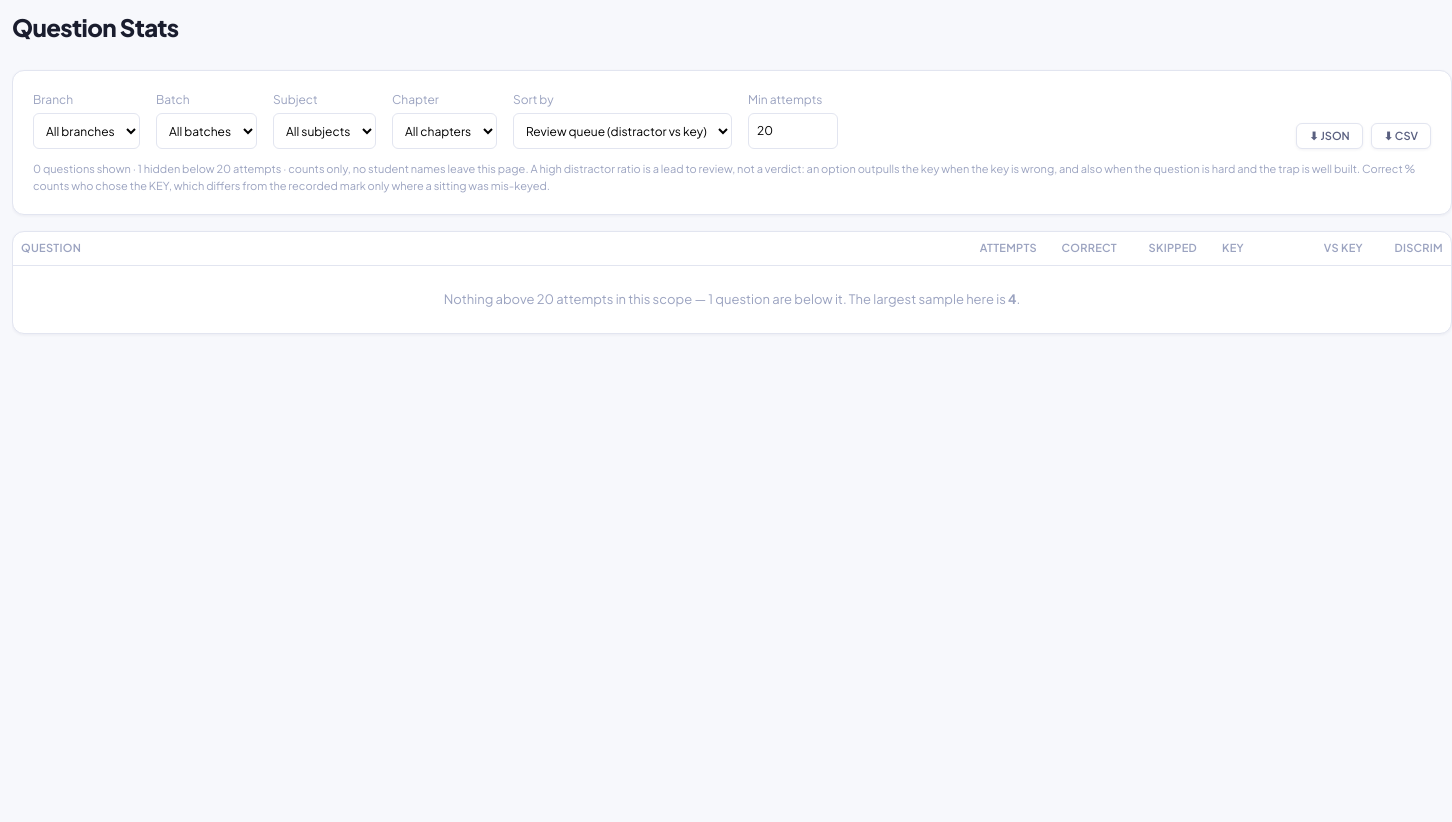
Test: ItemStatsPage — reviewing a row › expands to the full question card, options and all
Replace the text in the number field labelled "Min attempts" with "1" at (793, 131), box 748,113 -> 838,149
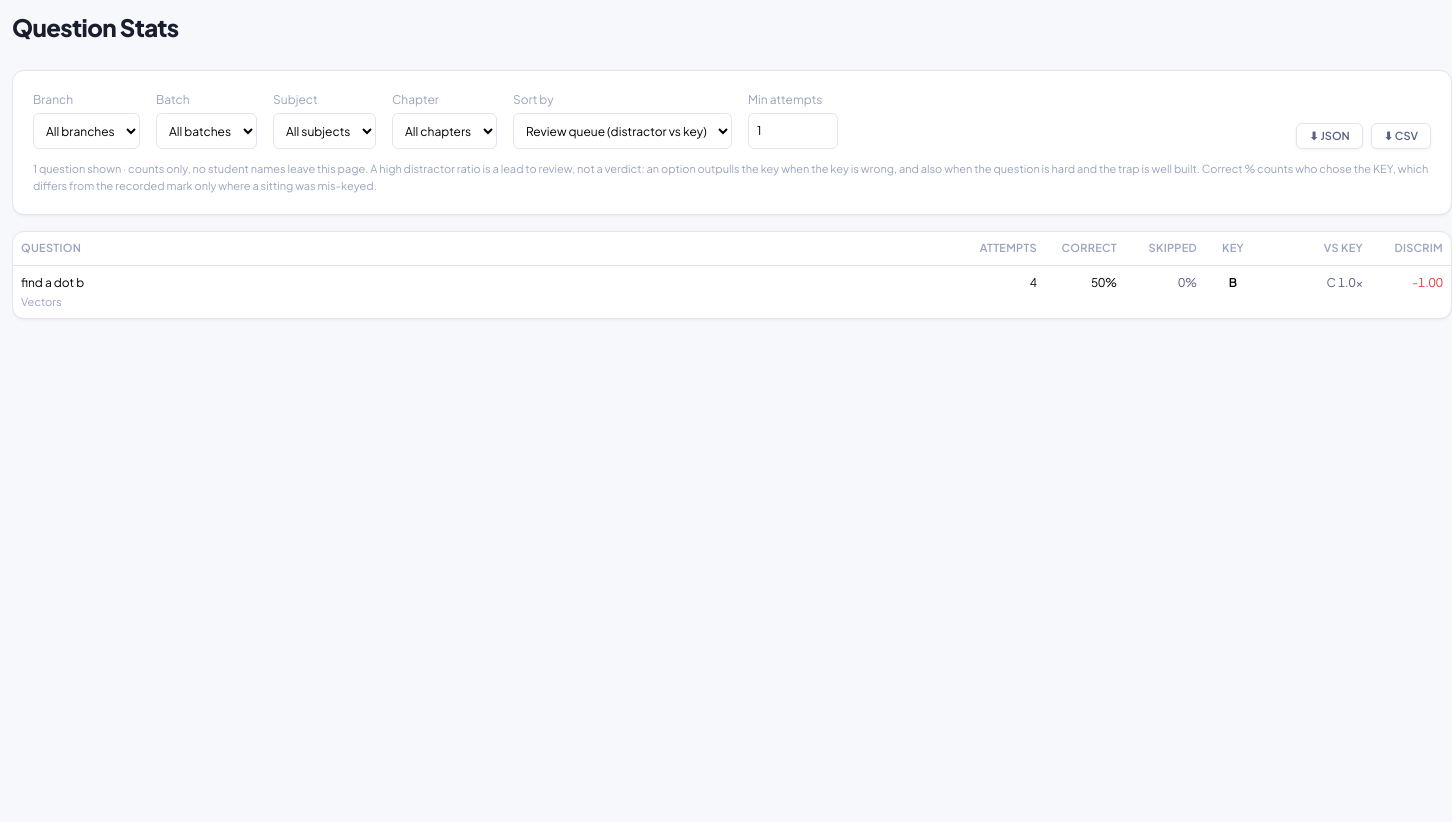
Click the row with test id "item-row".
click(53, 282)  # box 13,265 -> 1451,318
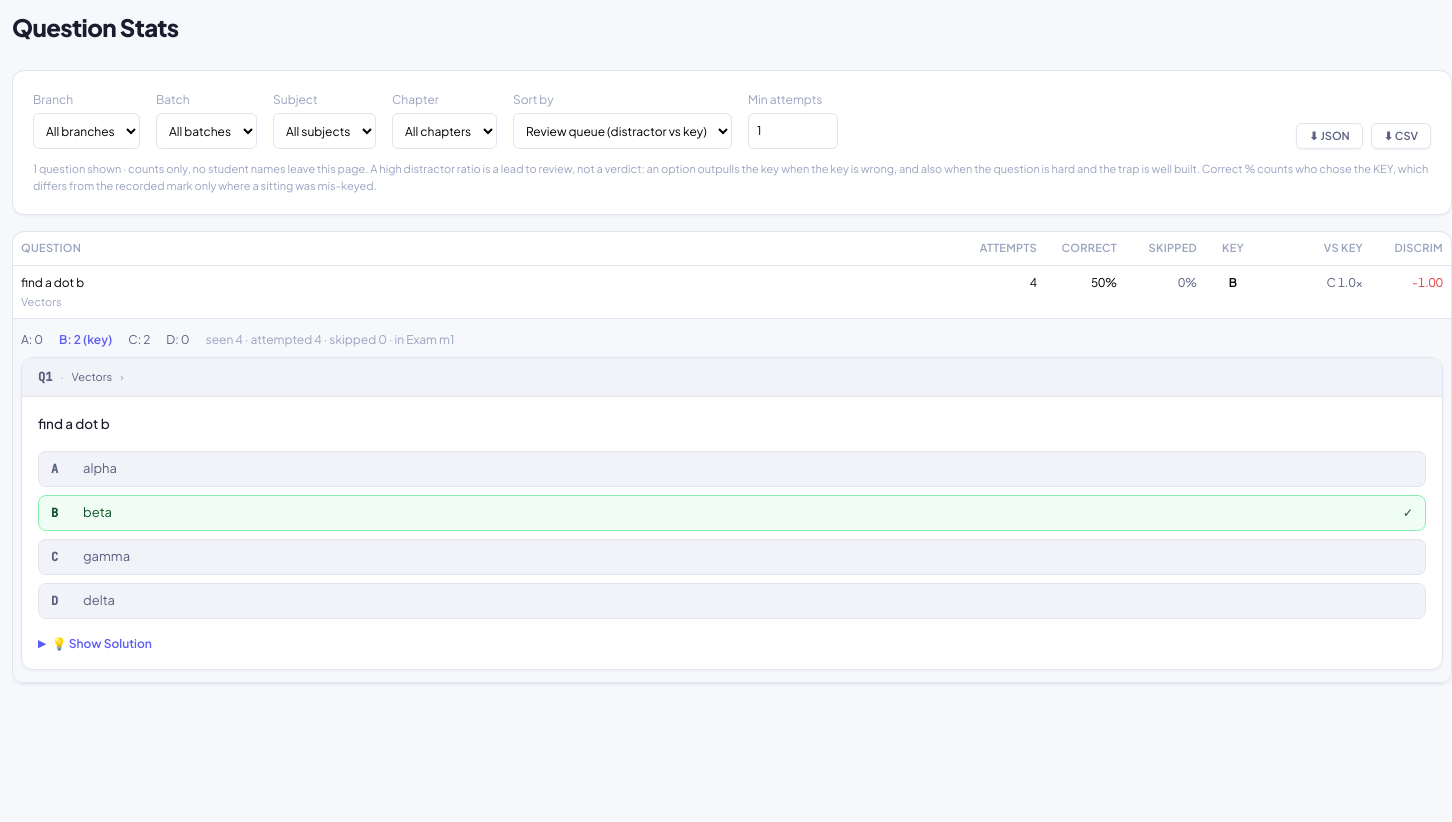
Expected: the text "alpha" is shown, 83,460 -> 117,476
Expected: the text "beta" is shown, 83,504 -> 112,520
Expected: the button "▶ 💡 Show Solution" is shown, 38,635 -> 152,653
